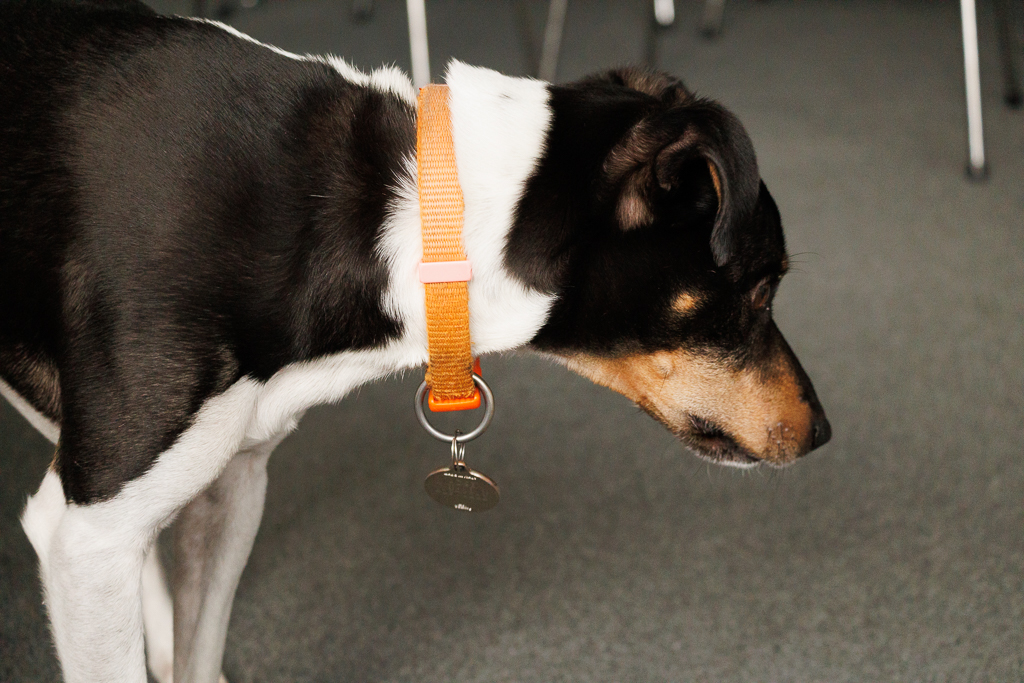Dog: (0, 0, 841, 683)
